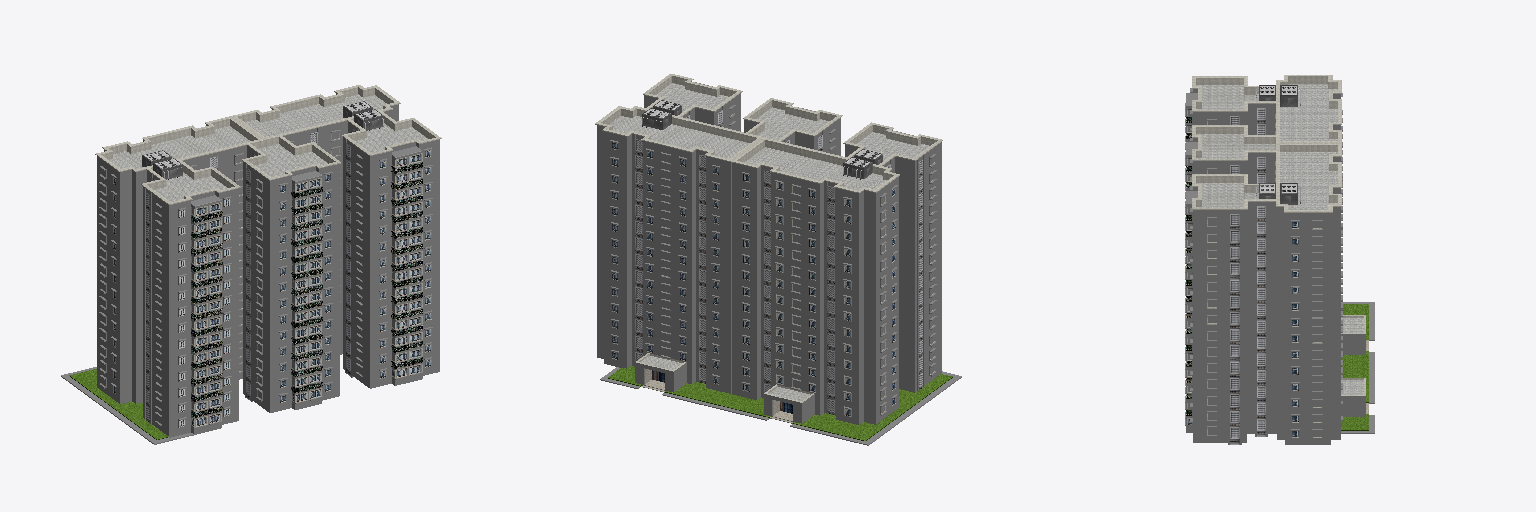
The picture shows the model from 3 angles: view 1: azimuth 30°, elevation 25°; view 2: azimuth 150°, elevation 25°; view 3: azimuth 270°, elevation 25°; orthographic projection.
Visible parts, largest first — view 1: high_building1; view 2: high_building1; view 3: high_building1.
Boxes of the visible parts, x1=… form: high_building1: x1=61, y1=85, x2=441, y2=444; high_building1: x1=595, y1=74, x2=961, y2=445; high_building1: x1=1185, y1=75, x2=1374, y2=444.
Size of the model in its own units: 615 by 477 by 342.
Materials: 16 (11 with a texture image).